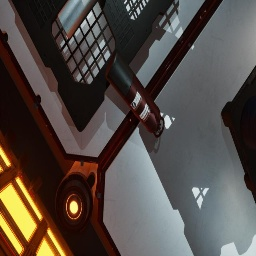0: (58, 0, 96, 39)
NitrogenTank ,: (106, 49, 165, 138)
